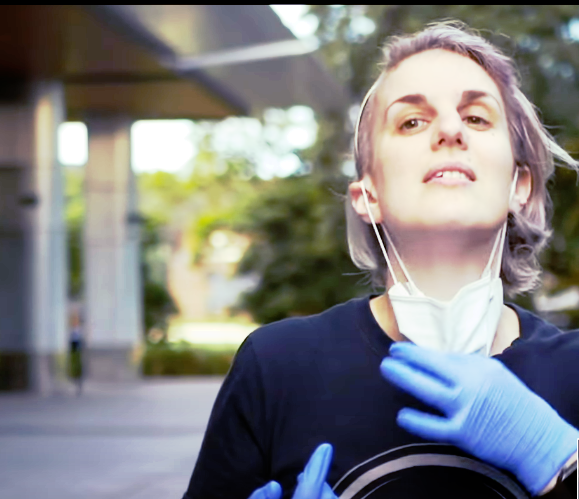mask_weared_incorrect: (350, 19, 556, 348)
